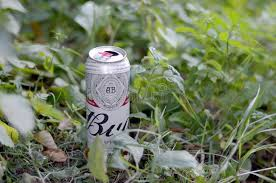can: (85, 46, 130, 145)
